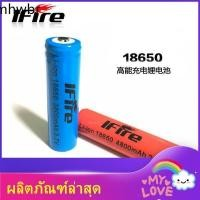Battery: (78, 105, 181, 161), (43, 34, 84, 154)
